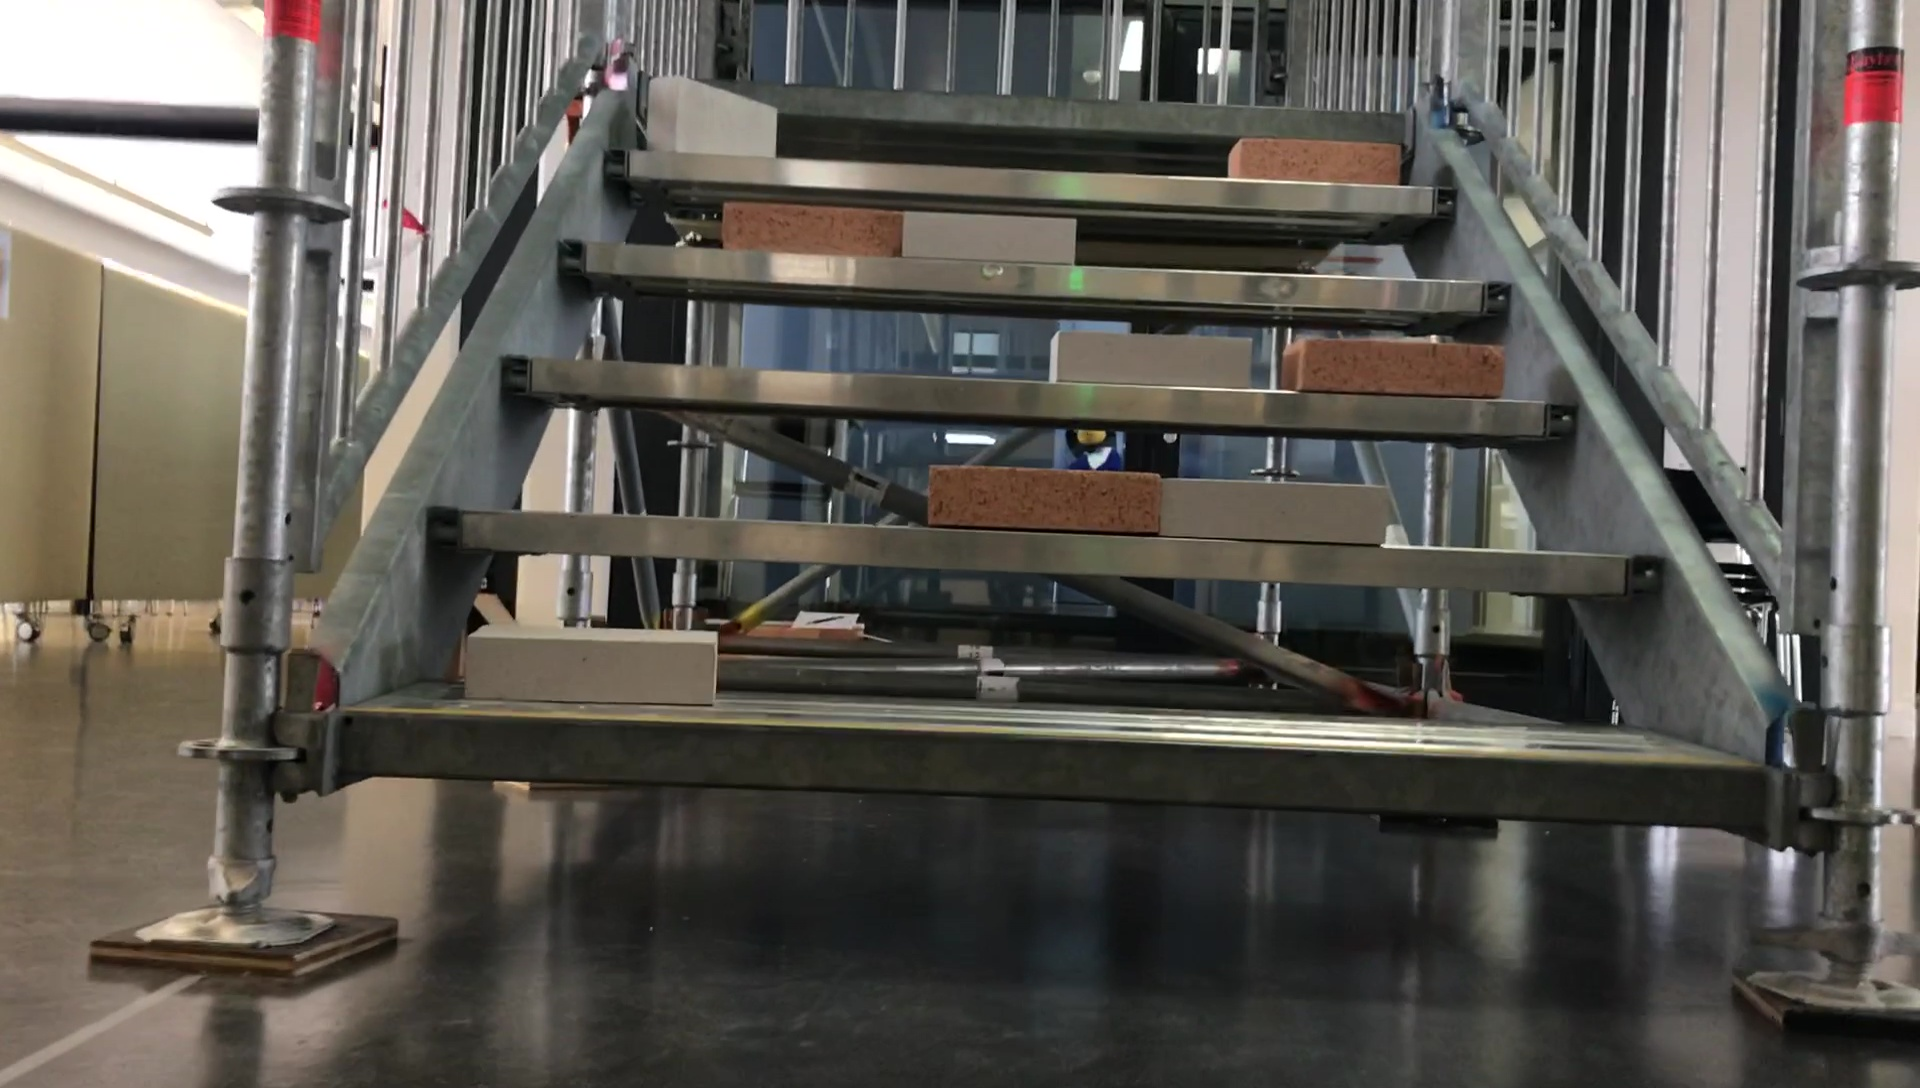brick: (465, 625, 715, 703), (930, 466, 1158, 535), (1164, 477, 1387, 542), (1284, 338, 1507, 396), (1052, 334, 1247, 388), (647, 76, 775, 156), (905, 208, 1075, 265), (723, 203, 899, 255), (1228, 140, 1399, 185)
edge: (344, 713, 1760, 826), (427, 510, 1668, 592), (496, 357, 1577, 437), (555, 240, 1513, 317), (603, 150, 1458, 215)
stairs: (86, 9, 1920, 1043)
steps: (335, 66, 1767, 868)
